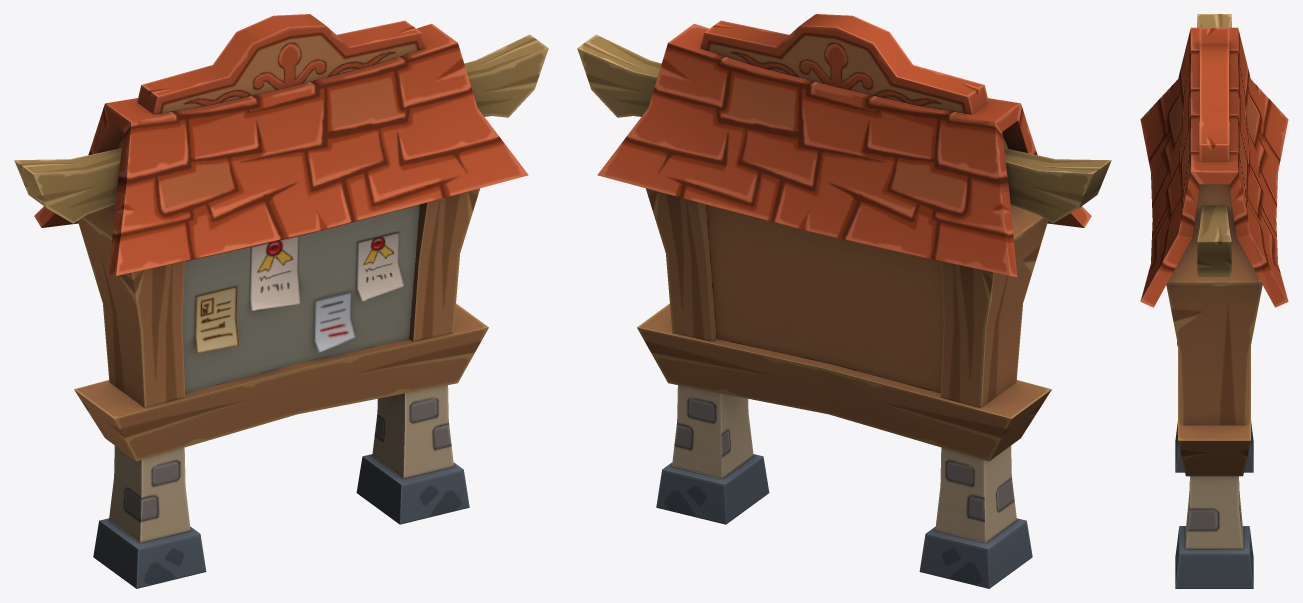
The model's file is building_16.FBX.
The picture shows the model from 3 angles, left to right: view 1: azimuth 30°, elevation 25°; view 2: azimuth 150°, elevation 25°; view 3: azimuth 270°, elevation 25°; orthographic projection. The views are drawn at different scales.
Visible parts, largest first — view 1: Box001; view 2: Box001; view 3: Box001.
Part boxes in pixels (<box>): Box001: <box>14,14,548,588</box>; Box001: <box>577,14,1111,588</box>; Box001: <box>1140,14,1288,588</box>.
Size of the model in its own units: 728 by 689 by 200.
